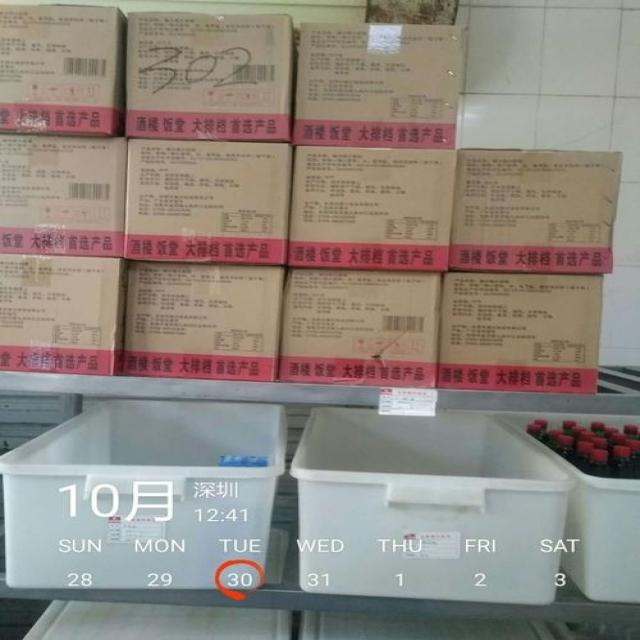box: (292, 21, 468, 150), (448, 147, 623, 274), (125, 12, 297, 141), (288, 145, 457, 273), (436, 271, 604, 397), (122, 141, 292, 265), (279, 269, 443, 389), (124, 261, 285, 381), (0, 5, 127, 136), (0, 255, 129, 377), (0, 136, 125, 256)
